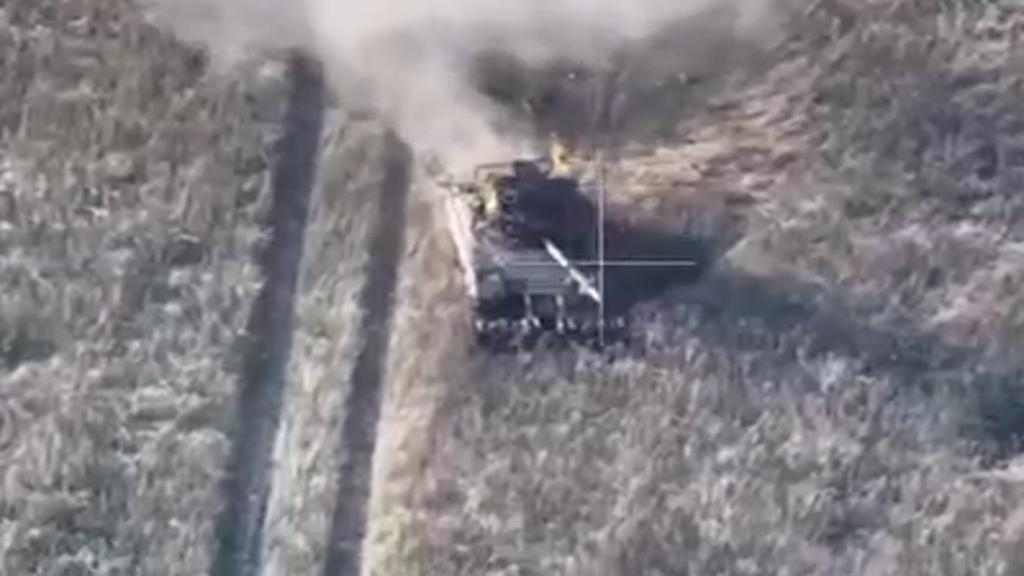TANK: (450, 153, 610, 345)
